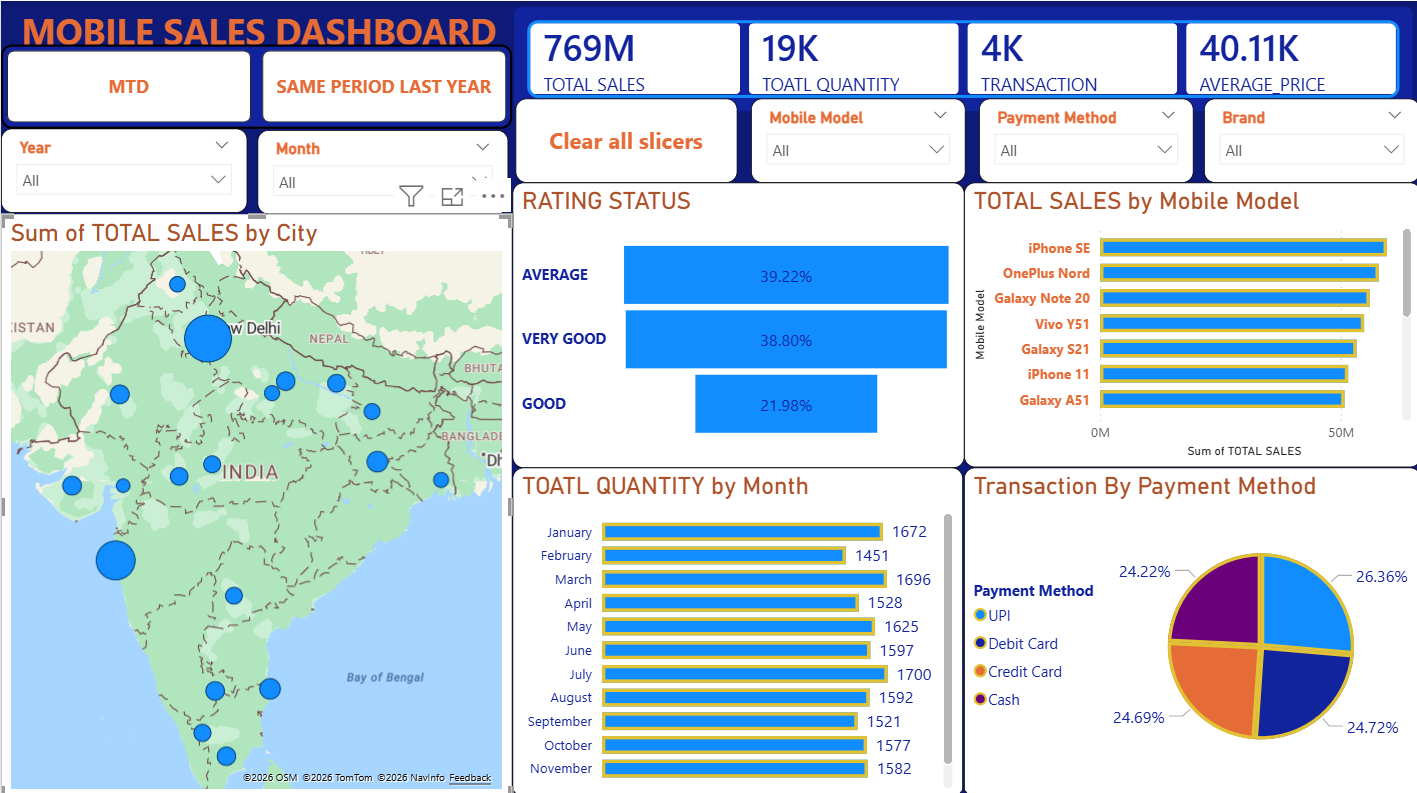

Layout of this report page (visuals, bound fields, positions):
{"tool":"powerbi","page":{"name":"TOTAL SALES","canvas":[1280,720],"ordinal":0},"visuals":[{"type":"pieChart","title":"Transaction By Payment Method","fields":{"Category":["Sheet1.Payment Method"],"Y":["CountNonNull(Sheet1.Transaction ID)"]},"box":[867.6,420.9,411.9,298.3],"z":0},{"type":"clusteredBarChart","title":"TOTAL SALES by Mobile Model","fields":{"Y":["Sum(Sheet1.TOTAL SALES)"],"Category":["Sheet1.Mobile Model"]},"box":[867.8,163.6,412.3,256.8],"z":1000},{"type":"cardVisual","fields":{"Data":["Sum(Sheet1.TOTAL SALES)","Sheet1.TOATL QUANTITY","Sheet1.TRANSACTION","Sheet1.AVERAGE_PRICE"]},"box":[457.3,0,822.2,104.5],"z":2000},{"type":"textbox","box":[13.6,0,528.5,104.5],"z":3000},{"type":"funnel","title":"RATING STATUS","fields":{"Category":["Sheet1.RATING STATUS"],"Y":["CountNonNull(Sheet1.RATING STATUS)"]},"box":[460.3,163.5,407.3,257.4],"z":4000},{"type":"slicer","fields":{"Values":["Sheet1.Mobile Model"]},"box":[675.9,87.9,193.3,75.7],"z":5000},{"type":"slicer","fields":{"Values":["Sheet1.Payment Method"]},"box":[881.3,87.9,193.3,75.7],"z":6000},{"type":"slicer","fields":{"Values":["Sheet1.Brand"]},"box":[1084.1,87.9,194.6,75.7],"z":7000},{"type":"clusteredBarChart","fields":{"Y":["Sheet1.TOATL QUANTITY"],"Category":["CUSTOM DATE.DATE.Variation.Date Hierarchy.Month"]},"box":[460.3,420.9,405.8,298.3],"z":8000},{"type":"azureMap","fields":{"Category":["Sheet1.City"],"Size":["Sum(Sheet1.TOTAL SALES)"]},"box":[0,191.9,460.9,527.2],"z":9000},{"type":"slicer","fields":{"Values":["CUSTOM DATE.DATE.Variation.Date Hierarchy.Month"]},"box":[231.1,116.2,225.7,75.7],"z":10000},{"type":"slicer","fields":{"Values":["CUSTOM DATE.DATE.Variation.Date Hierarchy.Year"]},"box":[0,114.9,221.7,75.7],"z":11000},{"type":"pageNavigator","box":[0,39.2,460.9,75.7],"z":12000},{"type":"actionButton","box":[463.6,87.9,200.1,75.7],"z":13000}]}

Visuals, with their boxes in screenshot pixels (x1, y1, x2, y2), scaled from the page's 1280x720 canvas onto the 1417x793 screenshot:
"Transaction By Payment Method" pieChart: locate(960, 464, 1416, 792)
"TOTAL SALES by Mobile Model" clusteredBarChart: locate(961, 180, 1416, 463)
cardVisual - Sum(Sheet1.TOTAL SALES) x Sheet1.TOATL QUANTITY: locate(506, 0, 1416, 115)
textbox: locate(15, 0, 600, 115)
"RATING STATUS" funnel: locate(510, 180, 960, 464)
slicer - Sheet1.Mobile Model: locate(748, 97, 962, 180)
slicer - Sheet1.Payment Method: locate(976, 97, 1190, 180)
slicer - Sheet1.Brand: locate(1200, 97, 1416, 180)
clusteredBarChart - Sheet1.TOATL QUANTITY x CUSTOM DATE.DATE.Variation.Date Hierarchy.Month: locate(510, 464, 959, 792)
azureMap - Sheet1.City x Sum(Sheet1.TOTAL SALES): locate(0, 211, 510, 792)
slicer - CUSTOM DATE.DATE.Variation.Date Hierarchy.Month: locate(256, 128, 506, 211)
slicer - CUSTOM DATE.DATE.Variation.Date Hierarchy.Year: locate(0, 127, 245, 210)
pageNavigator: locate(0, 43, 510, 127)
actionButton: locate(513, 97, 735, 180)
